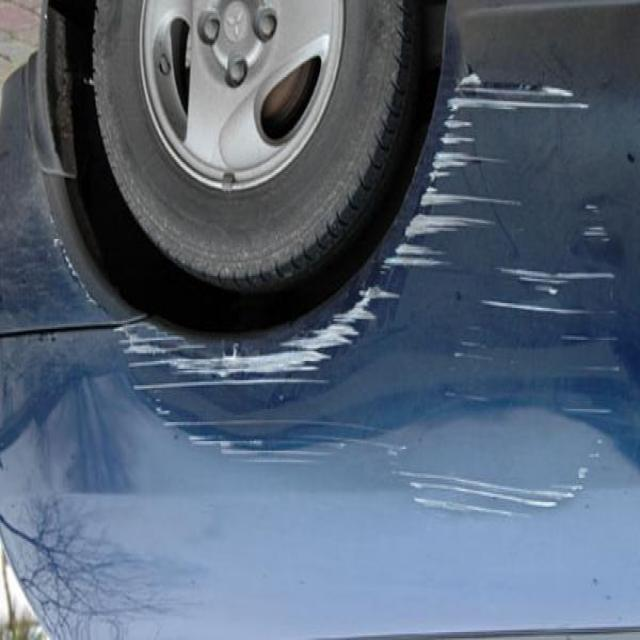scratch: (398, 175, 624, 532), (106, 243, 387, 464), (432, 56, 590, 162)
